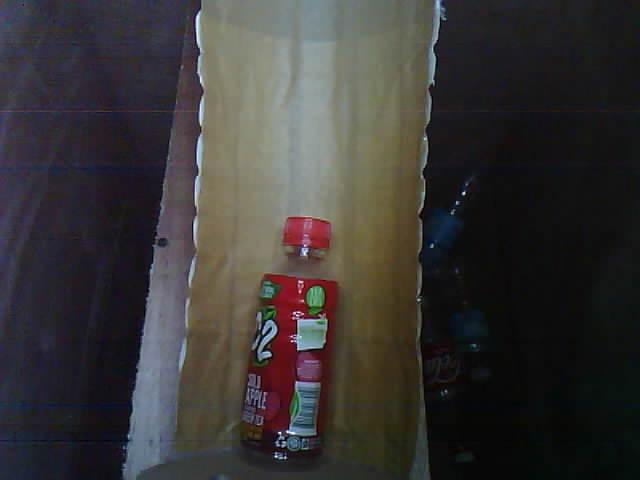small_bottle: (222, 202, 371, 480)
